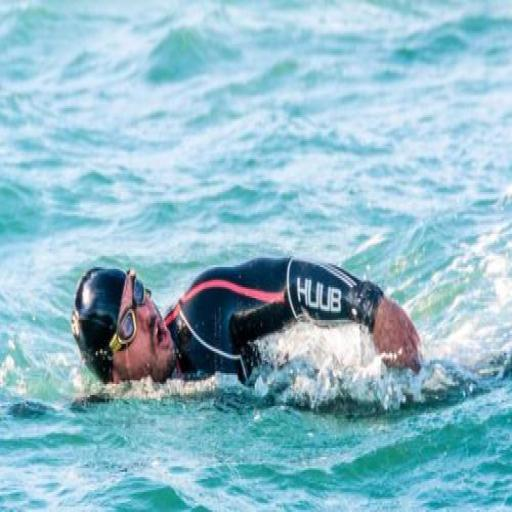swimming: (0, 206, 465, 489)
